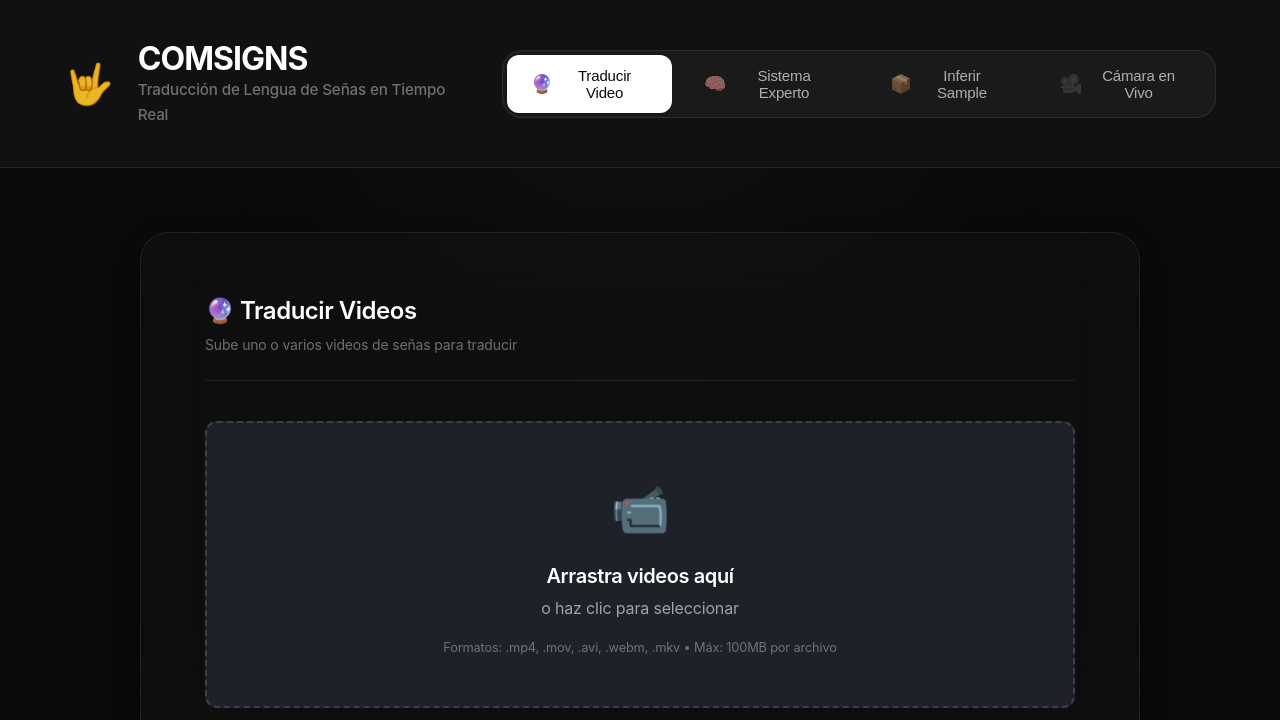
02 - Cambio entre Modos › debe cambiar al modo "Sistema Experto"
This screenshot has width=1280, height=720.
Expected: the heading "COMSIGNS" is shown, [138, 39, 308, 78]
Click en el botón Sistema Experto
Click the button "🧠 Sistema Experto": click(769, 84) [680, 55, 858, 113]
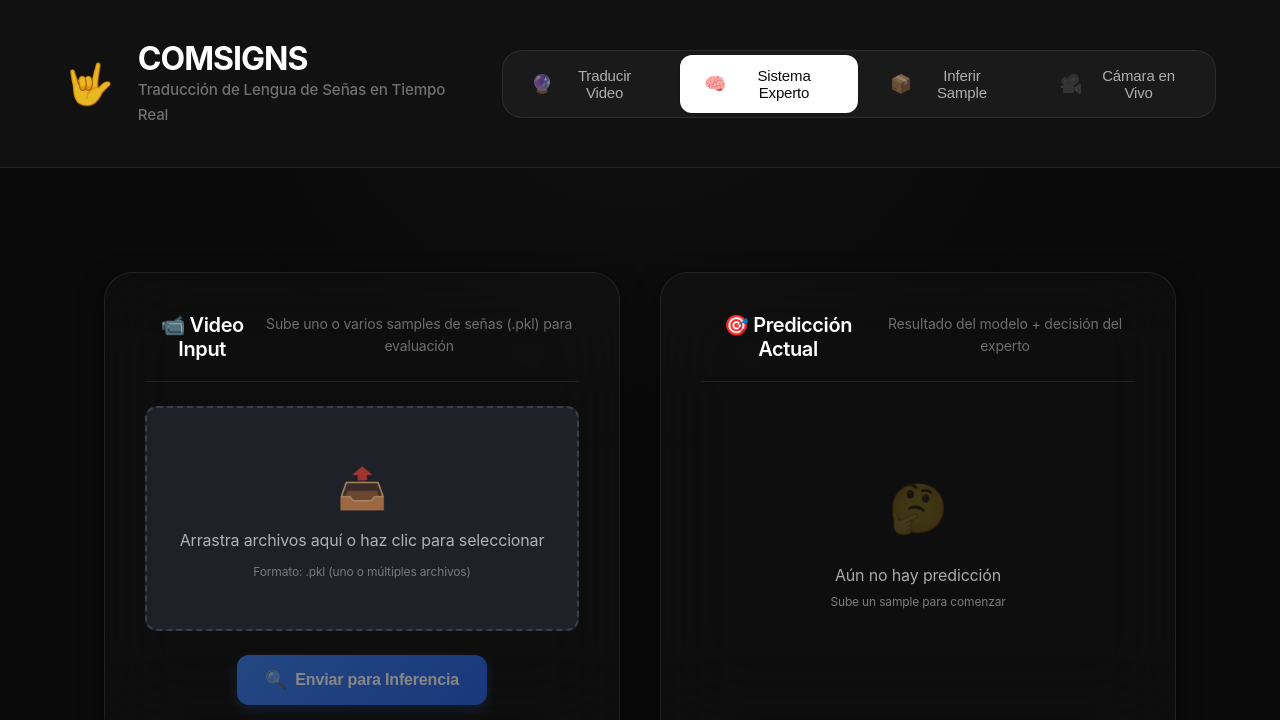
Result: the element with class "expert-panel" is shown
Result: the heading "📹 Video Input" is shown at [160, 313, 244, 361]
Result: the text "Sube uno o varios samples de señas (.pkl) para evaluación" is shown at [259, 313, 579, 358]
